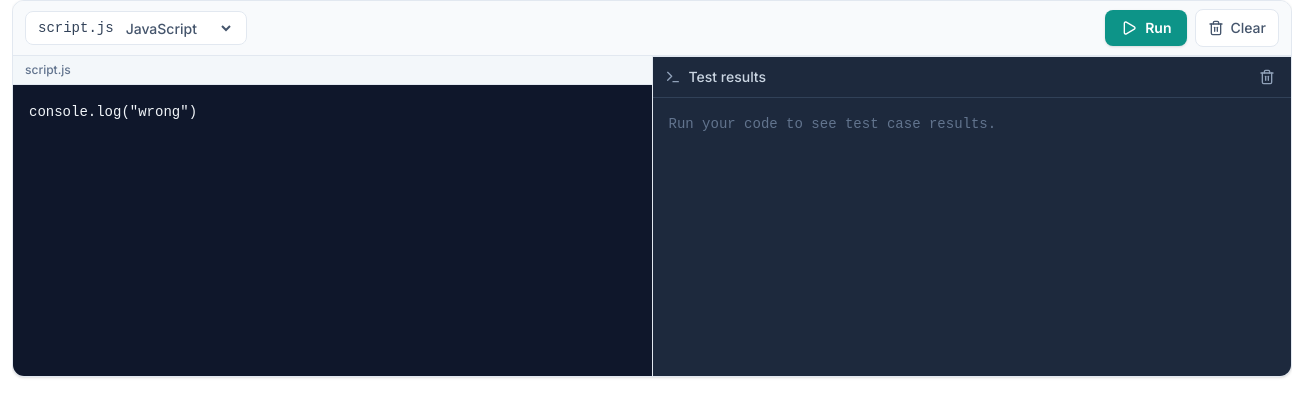
it: CodeBlock › tests mode › clears test results when clear button in output panel is clicked
Click the button "Run". click: coordinates (1146, 28)
box: [1105,10,1188,46]
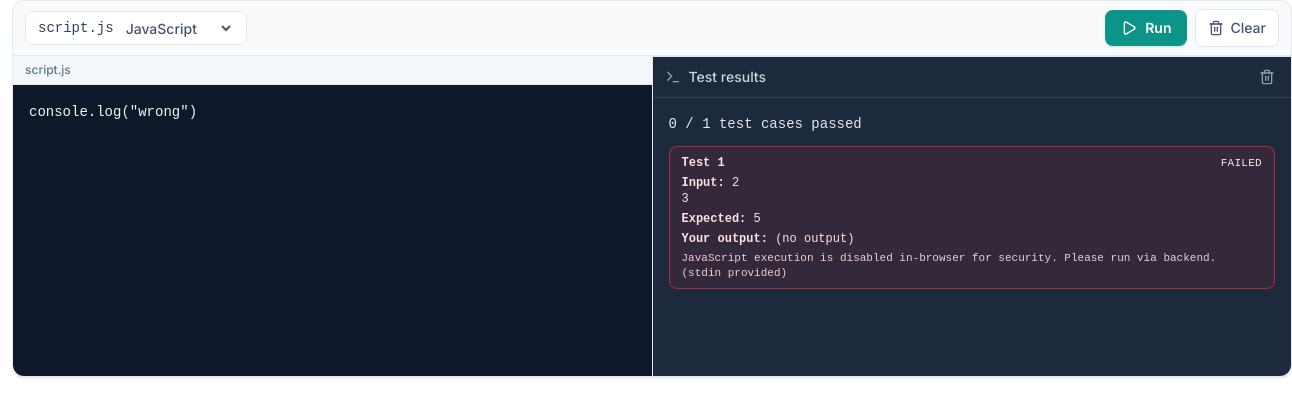
Check: the text "test cases passed" is shown, box [710,116,862,132]
Click the button named "Clear results". click: coordinates (1267, 77)
box: [1255,65,1279,89]
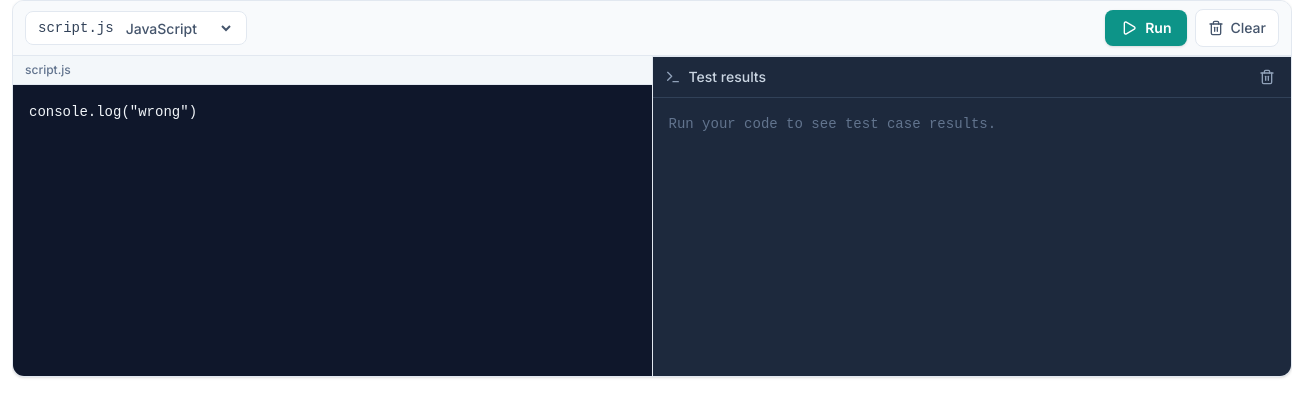
Check: the text "Run your code to see test case results." is shown, box [668,116,996,132]
